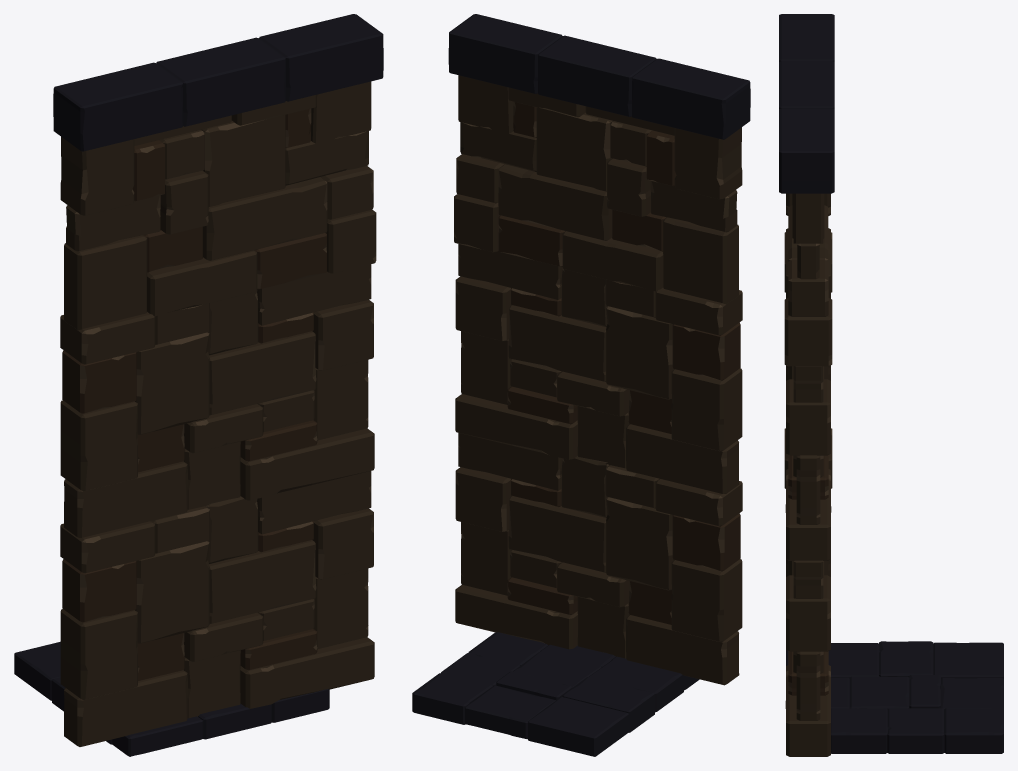
File: quat_junction.obj
3 views of the same model, side by side, from view 1: azimuth 30°, elevation 25°; view 2: azimuth 150°, elevation 25°; view 3: azimuth 270°, elevation 25° (orthographic). The views are drawn at different scales.
Parts seen in each view (by area): view 1: Wall_Modular_Cube.006_Wall_Modular_Cube.007, Wall_Modular_Cube.005_Wall_Modular_Cube.006, Wall_Modular_Cube.004, WallCover_Modular_Cube.017, Floor_Modular_Cube.001; view 2: Wall_Modular_Cube.006_Wall_Modular_Cube.007, Wall_Modular_Cube.005_Wall_Modular_Cube.006, Wall_Modular_Cube.004, Floor_Modular_Cube.001, WallCover_Modular_Cube.017; view 3: Floor_Modular_Cube.001, WallCover_Modular_Cube.017, Wall_Modular_Cube.006_Wall_Modular_Cube.007, Wall_Modular_Cube.005_Wall_Modular_Cube.006, Wall_Modular_Cube.004.
Boxes of the visible parts, bbox=[...] form: Wall_Modular_Cube.006_Wall_Modular_Cube.007: bbox=[60, 471, 374, 746]; Wall_Modular_Cube.005_Wall_Modular_Cube.006: bbox=[60, 264, 374, 537]; Wall_Modular_Cube.004: bbox=[60, 81, 376, 330]; WallCover_Modular_Cube.017: bbox=[53, 14, 383, 151]; Floor_Modular_Cube.001: bbox=[14, 641, 329, 756]; Wall_Modular_Cube.006_Wall_Modular_Cube.007: bbox=[455, 433, 742, 685]; Wall_Modular_Cube.005_Wall_Modular_Cube.006: bbox=[455, 244, 742, 493]; Wall_Modular_Cube.004: bbox=[454, 75, 742, 304]; Floor_Modular_Cube.001: bbox=[412, 632, 699, 756]; WallCover_Modular_Cube.017: bbox=[448, 14, 750, 139]; Floor_Modular_Cube.001: bbox=[786, 641, 1003, 753]; WallCover_Modular_Cube.017: bbox=[779, 14, 834, 193]; Wall_Modular_Cube.006_Wall_Modular_Cube.007: bbox=[784, 428, 832, 756]; Wall_Modular_Cube.005_Wall_Modular_Cube.006: bbox=[784, 232, 832, 560]; Wall_Modular_Cube.004: bbox=[784, 193, 832, 366].
Size of the model in its own units: 3.02 by 6.36 by 2.06.
